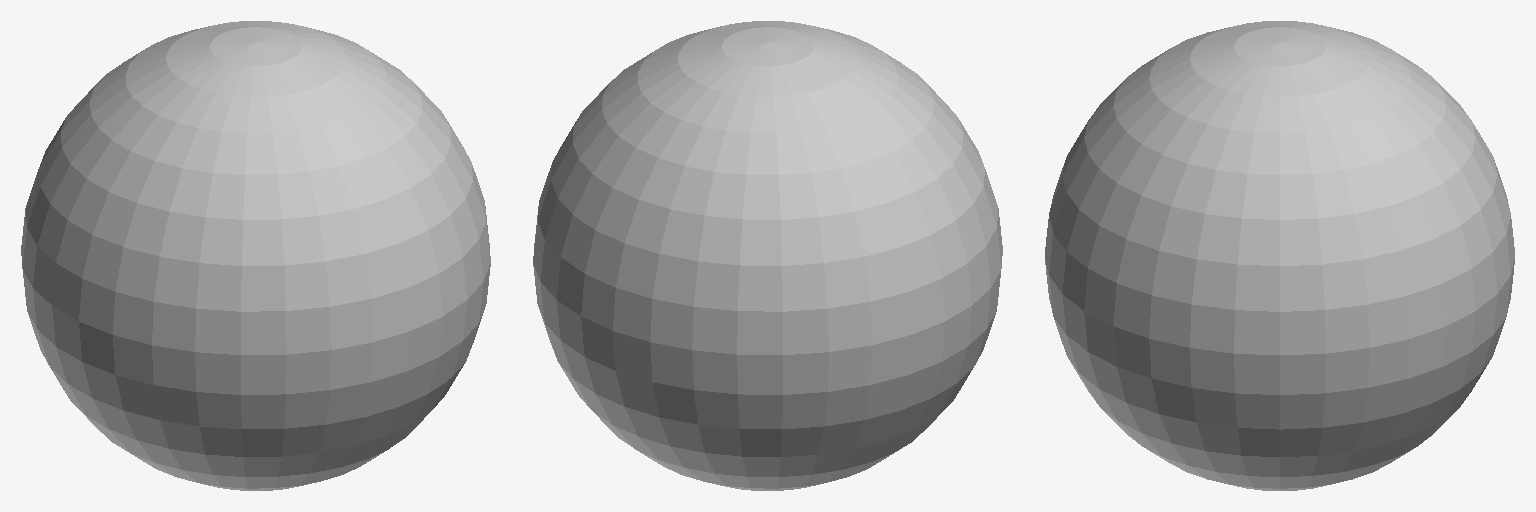
The model's file is eyeball.obj.
The picture shows the model from 3 angles: view 1: azimuth 30°, elevation 25°; view 2: azimuth 150°, elevation 25°; view 3: azimuth 270°, elevation 25°; orthographic projection.
Parts seen in each view (by area): view 1: Sphere.002; view 2: Sphere.002; view 3: Sphere.002.
Part boxes in pixels (left/top/right/bottom): Sphere.002: left=21, top=21, right=490, bottom=490; Sphere.002: left=533, top=21, right=1002, bottom=490; Sphere.002: left=1045, top=21, right=1514, bottom=490.
Size of the model in its own units: 0.3573 by 0.3573 by 0.3573.